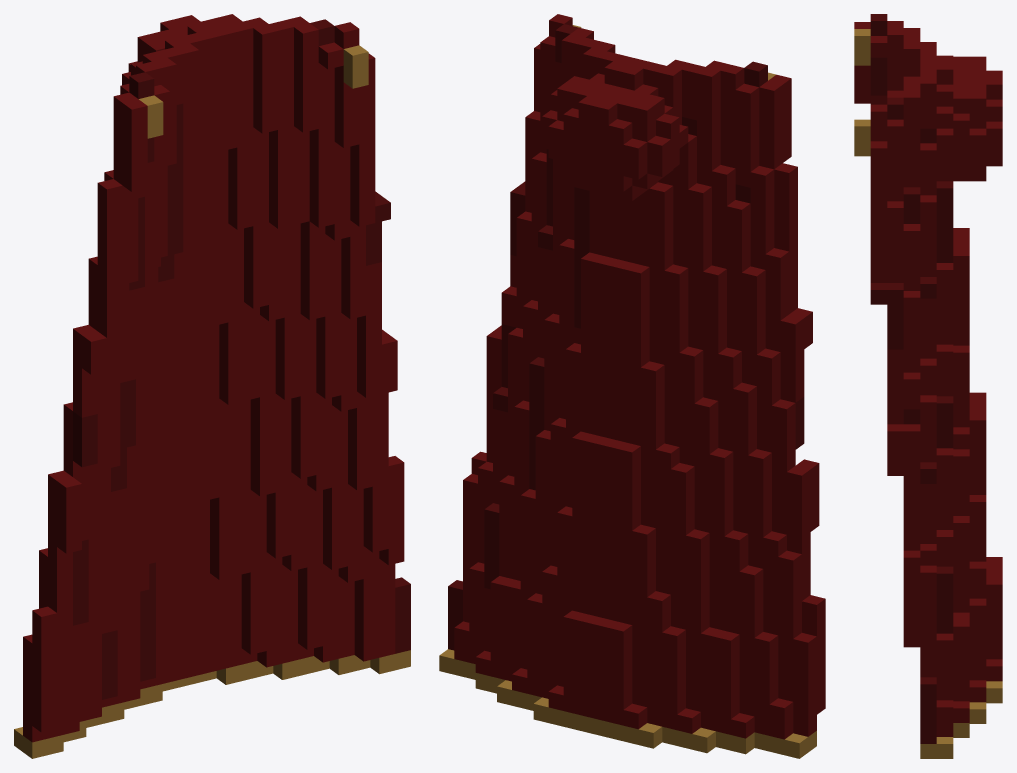
File: leather_rare_cloak_lod1.glb
3 views of the same model, side by side, from view 1: azimuth 30°, elevation 25°; view 2: azimuth 150°, elevation 25°; view 3: azimuth 270°, elevation 25° (orthographic). The views are drawn at different scales.
Parts seen in each view (by area): view 1: leather_rare_cloak_lod1; view 2: leather_rare_cloak_lod1; view 3: leather_rare_cloak_lod1.
Part boxes in pixels (x1,y1,x2,y2): leather_rare_cloak_lod1: [14, 14, 410, 758]; leather_rare_cloak_lod1: [439, 14, 825, 758]; leather_rare_cloak_lod1: [854, 14, 1002, 758].
Size of the model in its own units: 0.576 by 0.984 by 0.216.
